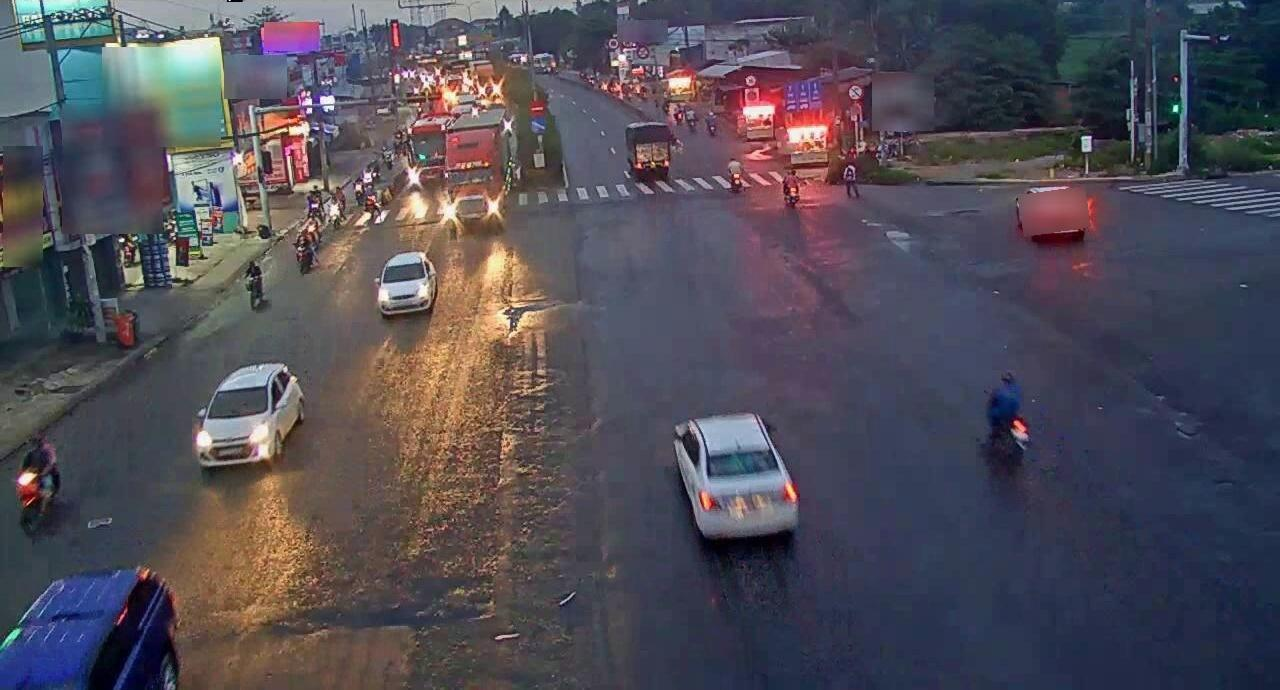xe hoi: (669, 407, 793, 541), (197, 360, 300, 472), (1015, 185, 1090, 247), (377, 253, 428, 310)
xe may: (12, 428, 60, 534), (982, 368, 1031, 464)
xe tai: (624, 115, 679, 185)
